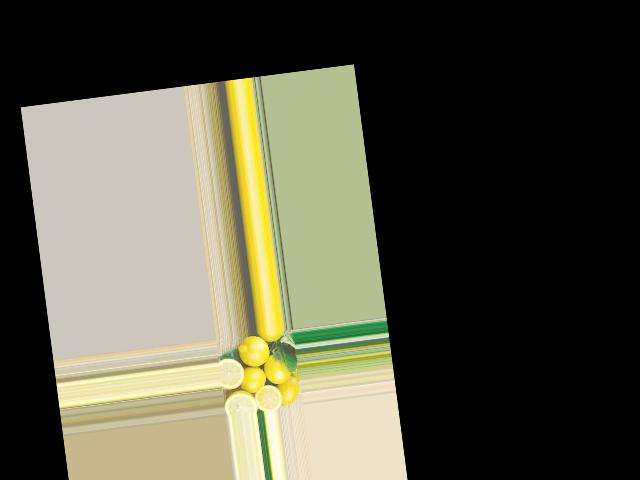lemon: (275, 374, 301, 406)
